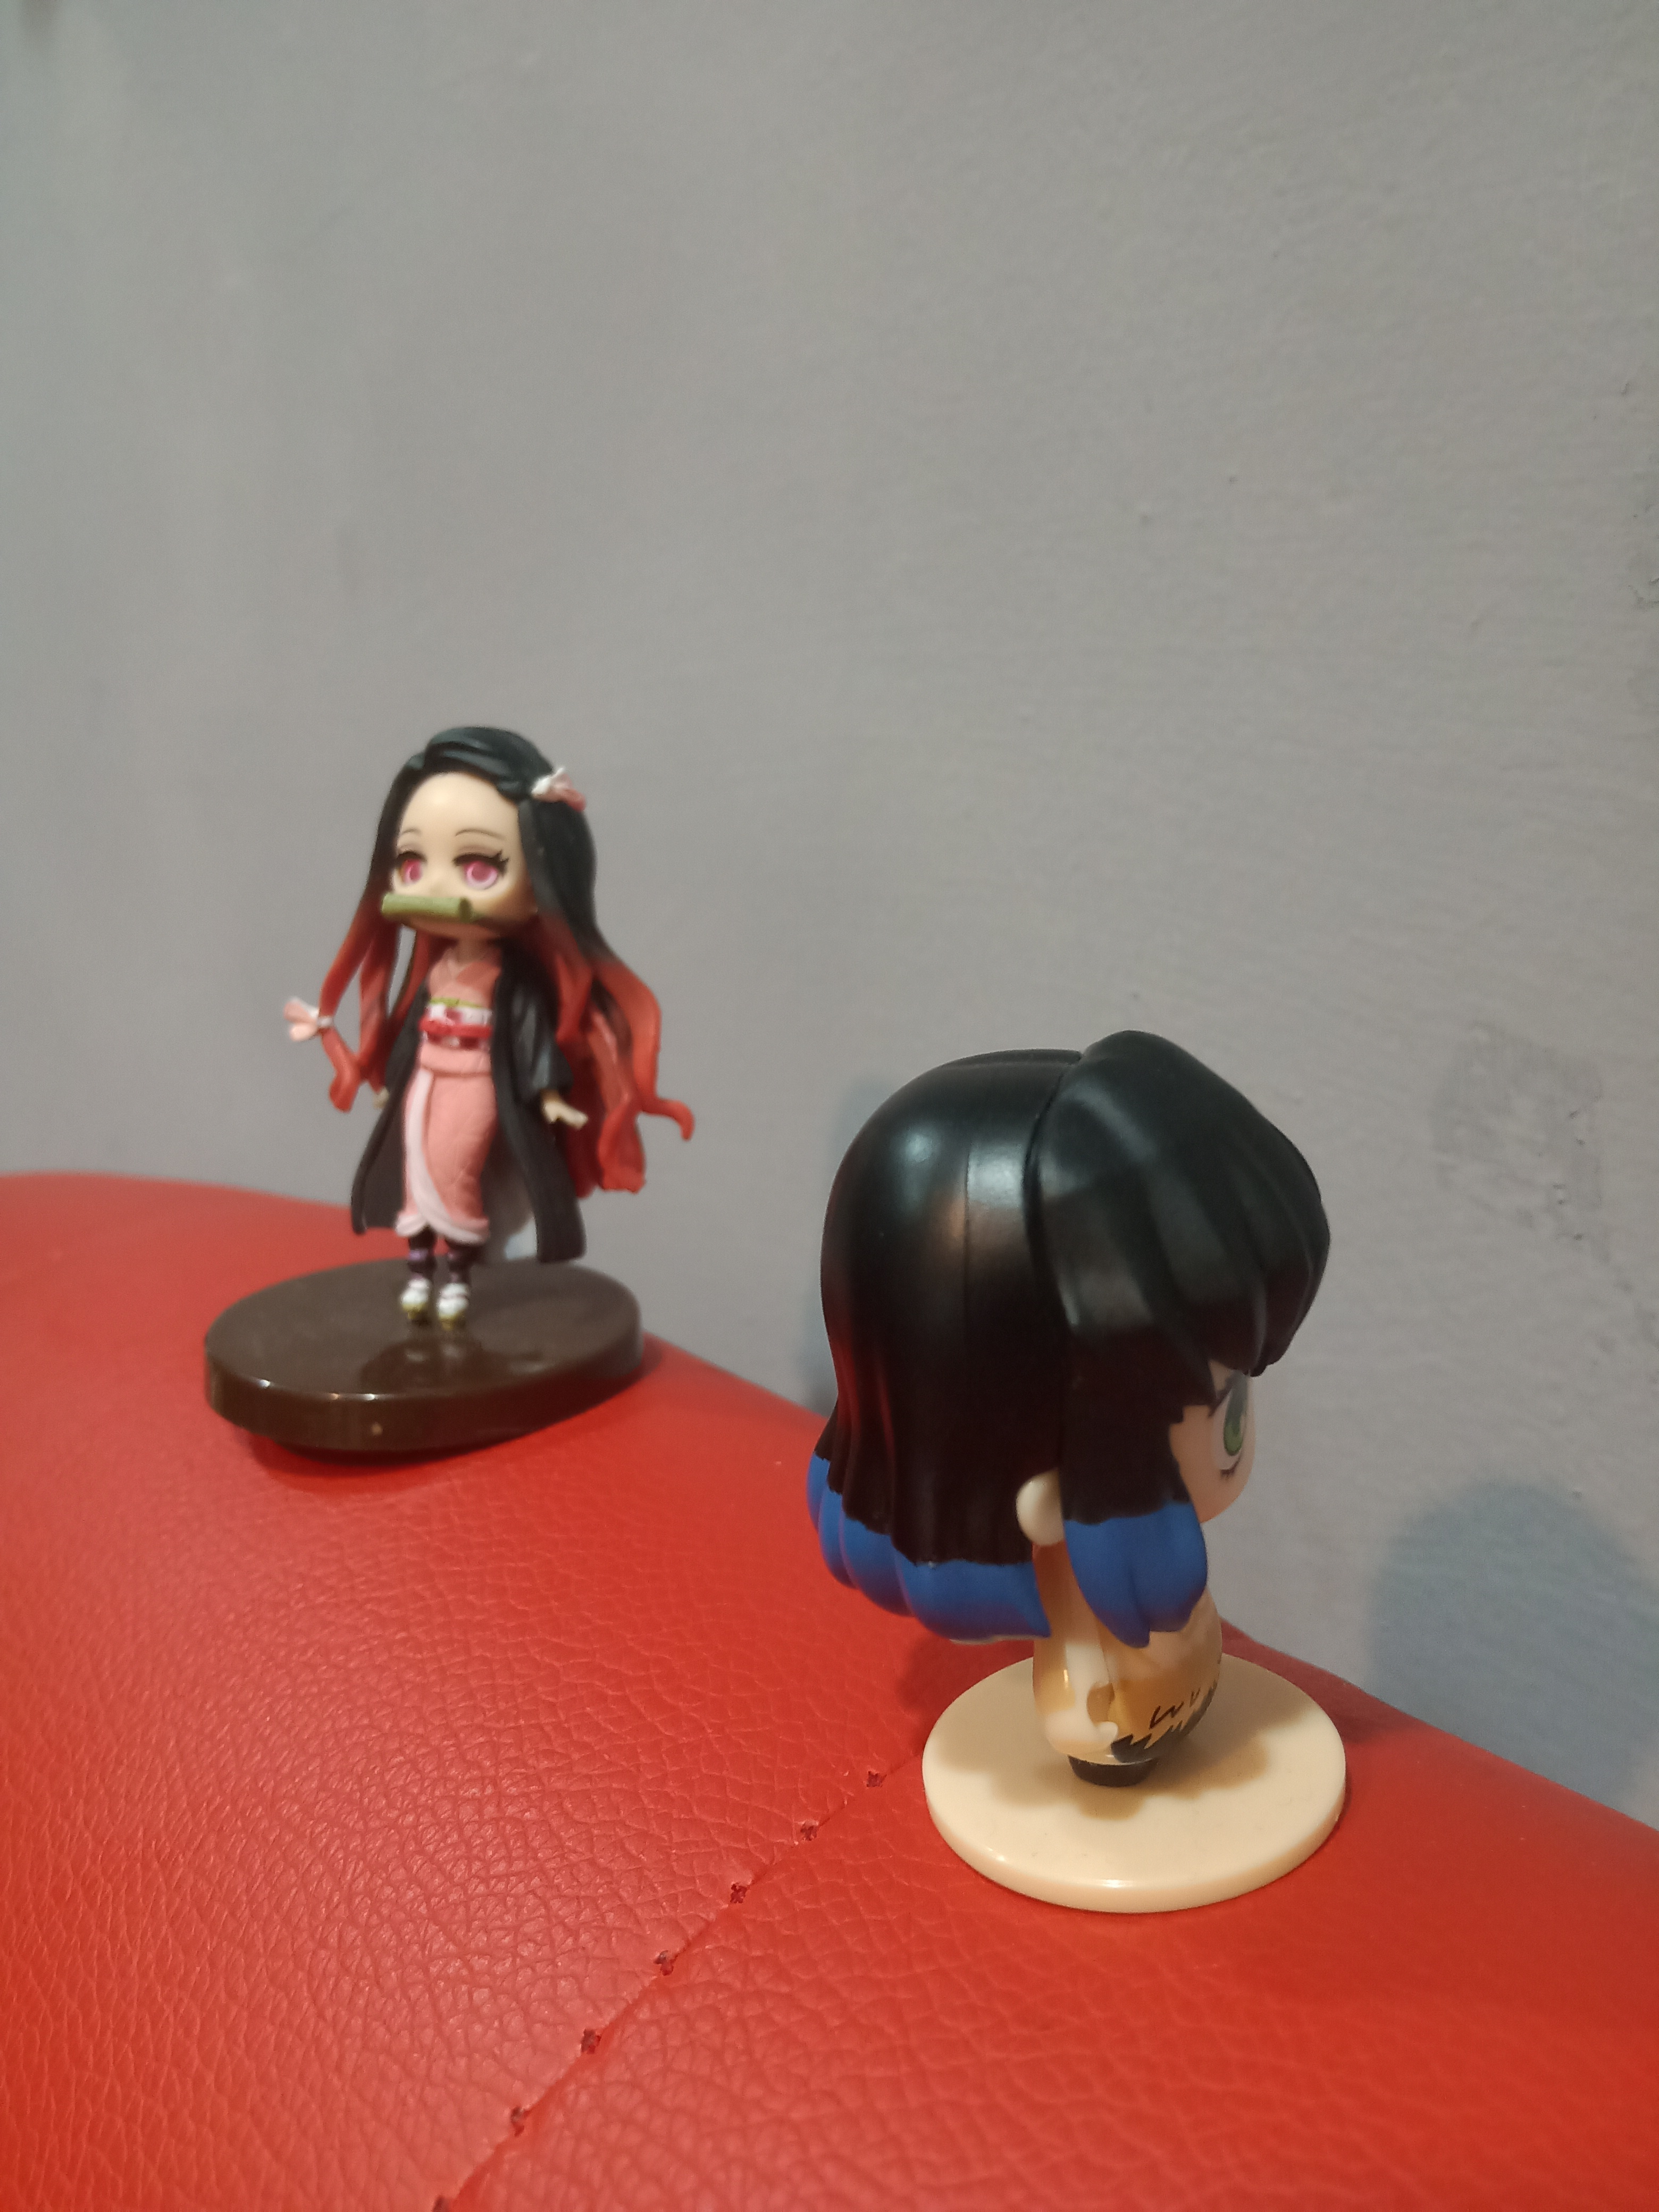Inosuke: (782, 1021, 1368, 1928)
Nezuko: (192, 707, 709, 1484)
